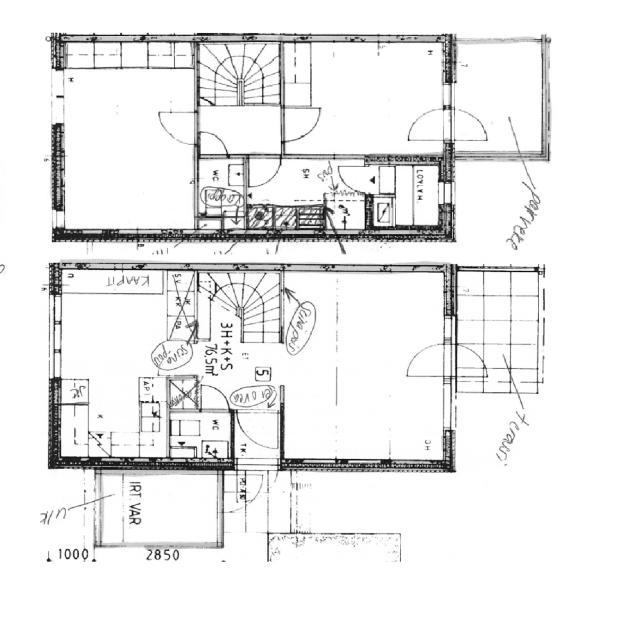door: (158, 117, 230, 152), (236, 409, 282, 454), (400, 340, 448, 380), (404, 105, 451, 143), (279, 105, 323, 144), (156, 108, 200, 145), (449, 106, 491, 143), (245, 154, 282, 188), (333, 162, 371, 194), (453, 342, 488, 376), (240, 469, 268, 510), (197, 381, 232, 413), (197, 128, 231, 158)
window: (45, 292, 67, 372), (48, 71, 68, 128), (441, 384, 460, 434), (437, 180, 457, 208), (440, 80, 458, 110), (50, 207, 67, 230)
zone: (286, 270, 452, 466), (56, 39, 196, 235), (55, 263, 172, 462), (286, 41, 450, 156), (452, 41, 547, 158), (95, 472, 228, 546), (244, 157, 370, 233), (369, 162, 444, 232), (197, 156, 247, 229), (168, 409, 234, 462), (168, 376, 199, 411)
